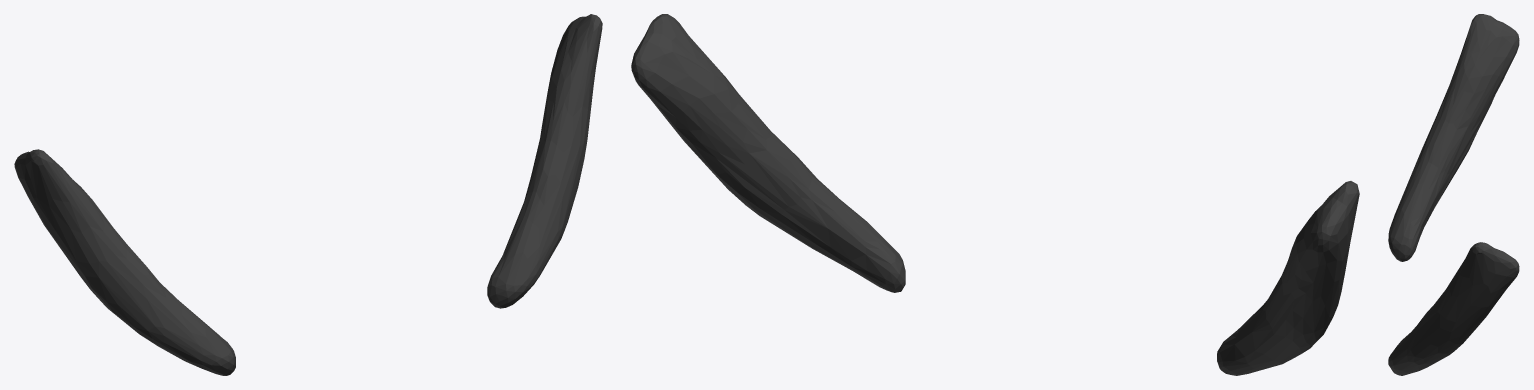
The model's file is m_pterygoid_lateral.glb.
The picture shows the model from 3 angles, left to right: view 1: azimuth 30°, elevation 25°; view 2: azimuth 150°, elevation 25°; view 3: azimuth 270°, elevation 25°; orthographic projection. The views are drawn at different scales.
Parts seen in each view (by area): view 1: m_pterygoid_lateral; view 2: m_pterygoid_lateral; view 3: m_pterygoid_lateral.
Boxes of the visible parts, x1,y1,x2,y2 form: m_pterygoid_lateral: (14,14,602,375); m_pterygoid_lateral: (631,14,1359,375); m_pterygoid_lateral: (1388,14,1519,375).
Size of the model in its own units: 0.00257 by 0.000965 by 0.000606.
Materials: 1 (1 with a texture image).
